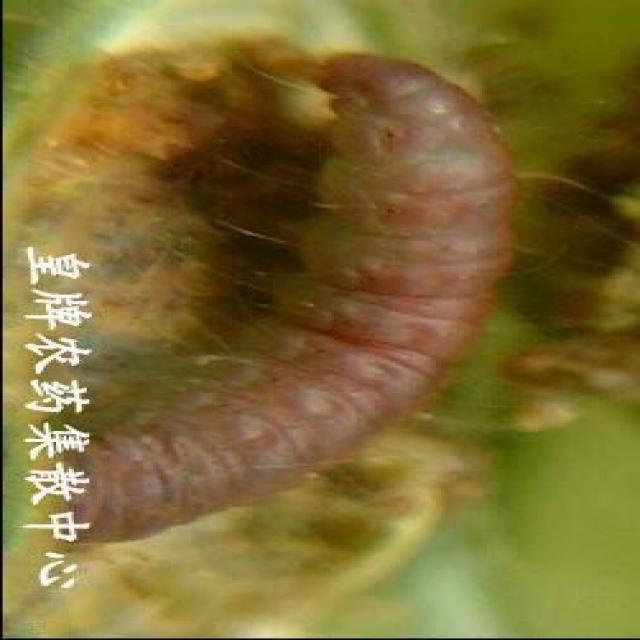peach borer: (70, 62, 529, 548)
